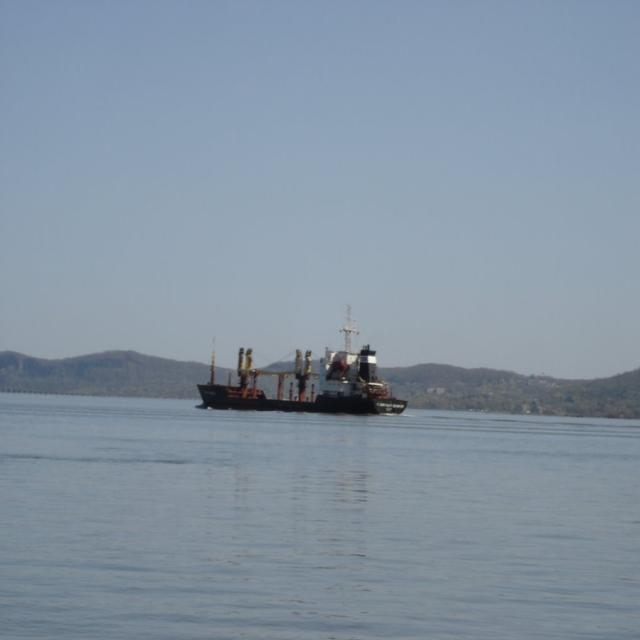cargoship: (194, 326, 404, 415)
